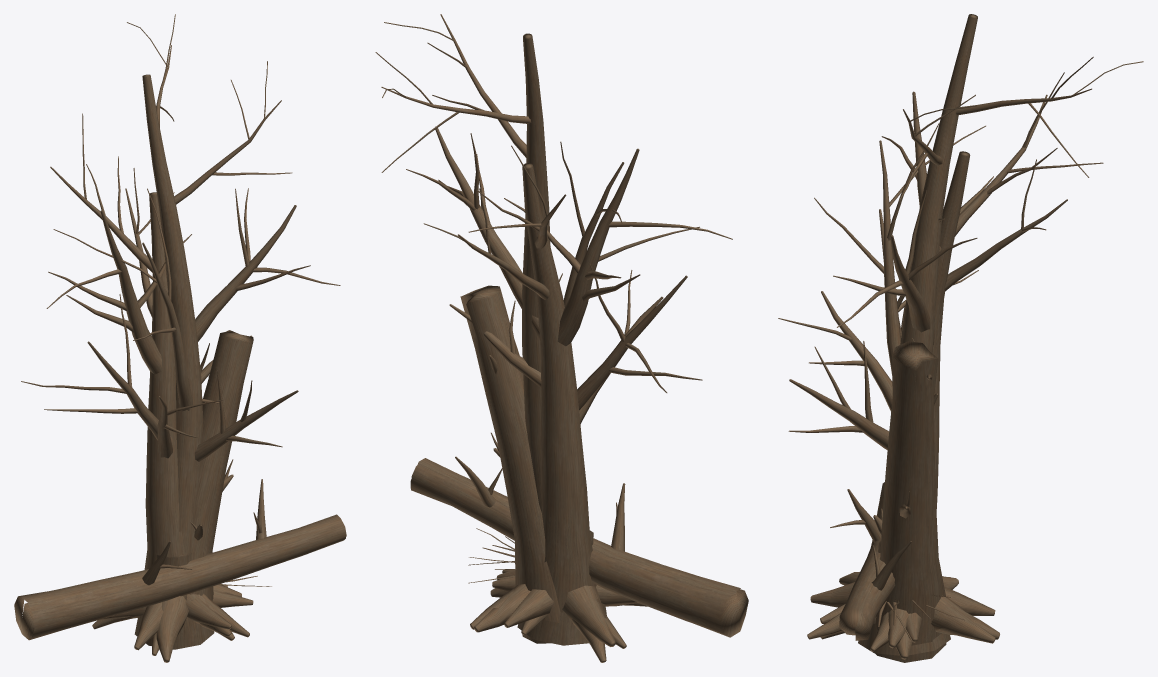
File: dead_tree_kit.glb
3 views of the same model, side by side, from view 1: azimuth 30°, elevation 25°; view 2: azimuth 150°, elevation 25°; view 3: azimuth 270°, elevation 25° (orthographic). The views are drawn at different scales.
Visible parts, largest first — view 1: tree_dead_tall, tree_dead_fork, log_fallen, tree_dead_snag, stump_dead; view 2: tree_dead_fork, tree_dead_tall, log_fallen, tree_dead_snag, stump_dead; view 3: tree_dead_snag, tree_dead_tall, tree_dead_fork, log_fallen, stump_dead.
Part boxes in pixels (<box>): tree_dead_tall: <box>21,14,298,655</box>; tree_dead_fork: <box>46,168,340,629</box>; log_fallen: <box>14,479,346,640</box>; tree_dead_snag: <box>134,330,253,650</box>; stump_dead: <box>128,553,231,662</box>; tree_dead_fork: <box>406,126,732,662</box>; tree_dead_tall: <box>375,14,702,648</box>; log_fallen: <box>410,456,748,637</box>; tree_dead_snag: <box>460,285,638,643</box>; stump_dead: <box>474,530,623,646</box>; tree_dead_snag: <box>820,341,995,662</box>; tree_dead_tall: <box>788,14,1143,651</box>; tree_dead_fork: <box>778,91,1067,642</box>; log_fallen: <box>830,482,911,640</box>; stump_dead: <box>810,539,999,659</box>.
Size of the model in its own units: 3.21 by 5.55 by 2.9.
Materials: 1 (1 with a texture image).
